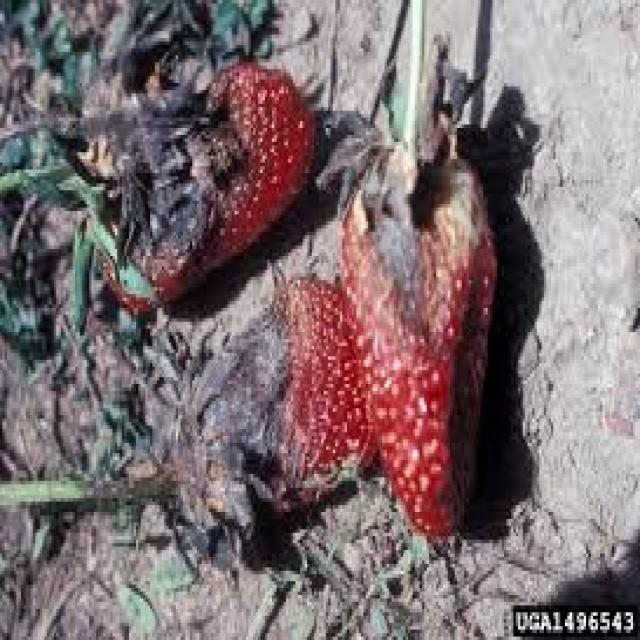Moho gris: (340, 152, 489, 547), (119, 302, 367, 530), (89, 61, 318, 282)
